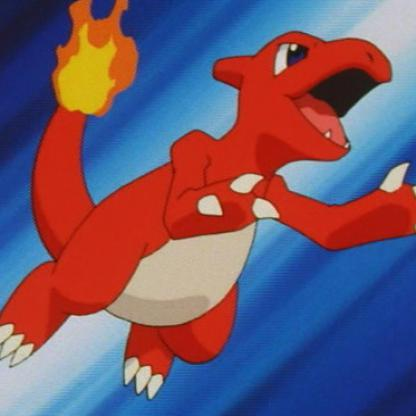Charmeleon: (1, 1, 416, 409)
